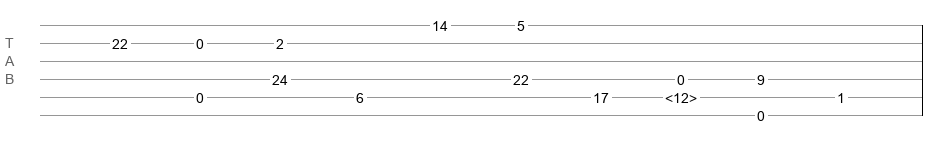0: (196, 36, 204, 46), (196, 90, 204, 100), (677, 72, 685, 82), (757, 108, 765, 118)
1: (837, 90, 845, 100)
14: (432, 18, 448, 28)
17: (593, 90, 609, 100)
2: (276, 36, 284, 46)
22: (112, 36, 128, 46), (513, 72, 529, 82)
24: (272, 72, 288, 82)
5: (517, 18, 525, 28)
6: (356, 90, 364, 100)
9: (757, 72, 765, 82)
harmonic: (665, 90, 697, 100)
